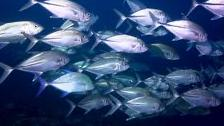Carangidae -Jacks-: (164, 78, 221, 112), (89, 24, 147, 57), (32, 67, 95, 96), (103, 87, 164, 115), (150, 14, 205, 45), (107, 2, 170, 29), (13, 0, 89, 22), (19, 29, 93, 51), (0, 17, 45, 51), (85, 55, 130, 79), (183, 0, 224, 26)
